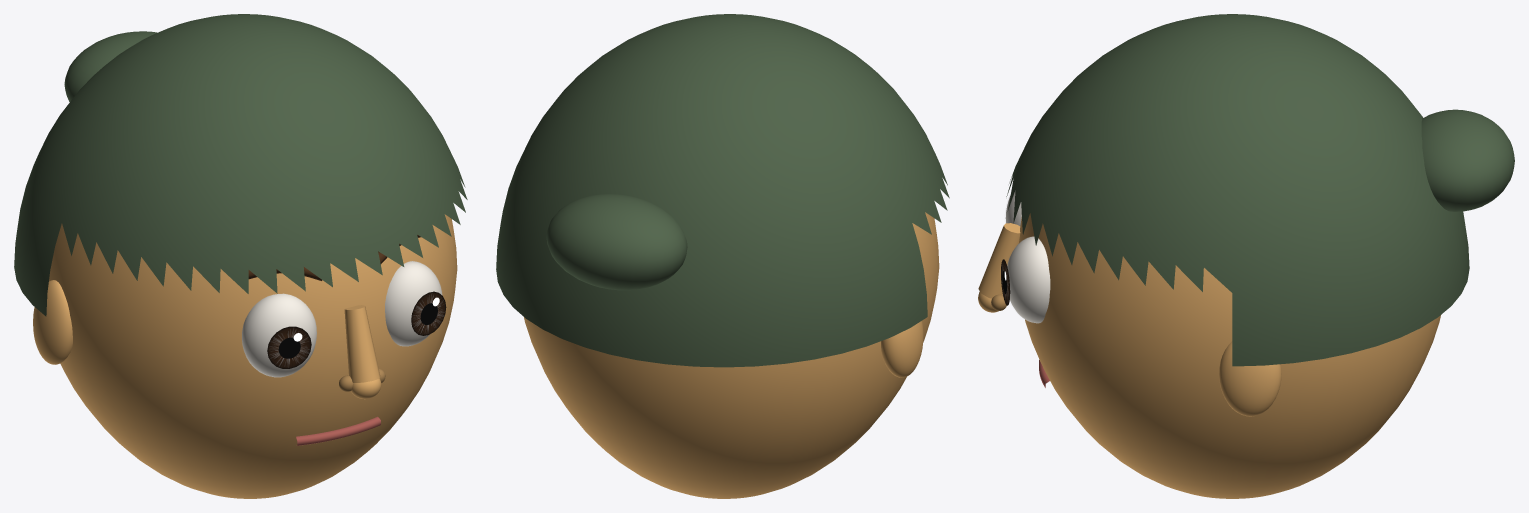
Rendered from 04-bandana.glb.
3 renders of one model, left to right at view 1: azimuth 30°, elevation 25°; view 2: azimuth 150°, elevation 25°; view 3: azimuth 270°, elevation 25°, orthographic.
Size of the model in its own units: 0.3115 by 0.335 by 0.3611.
10 materials, 1 textured.
